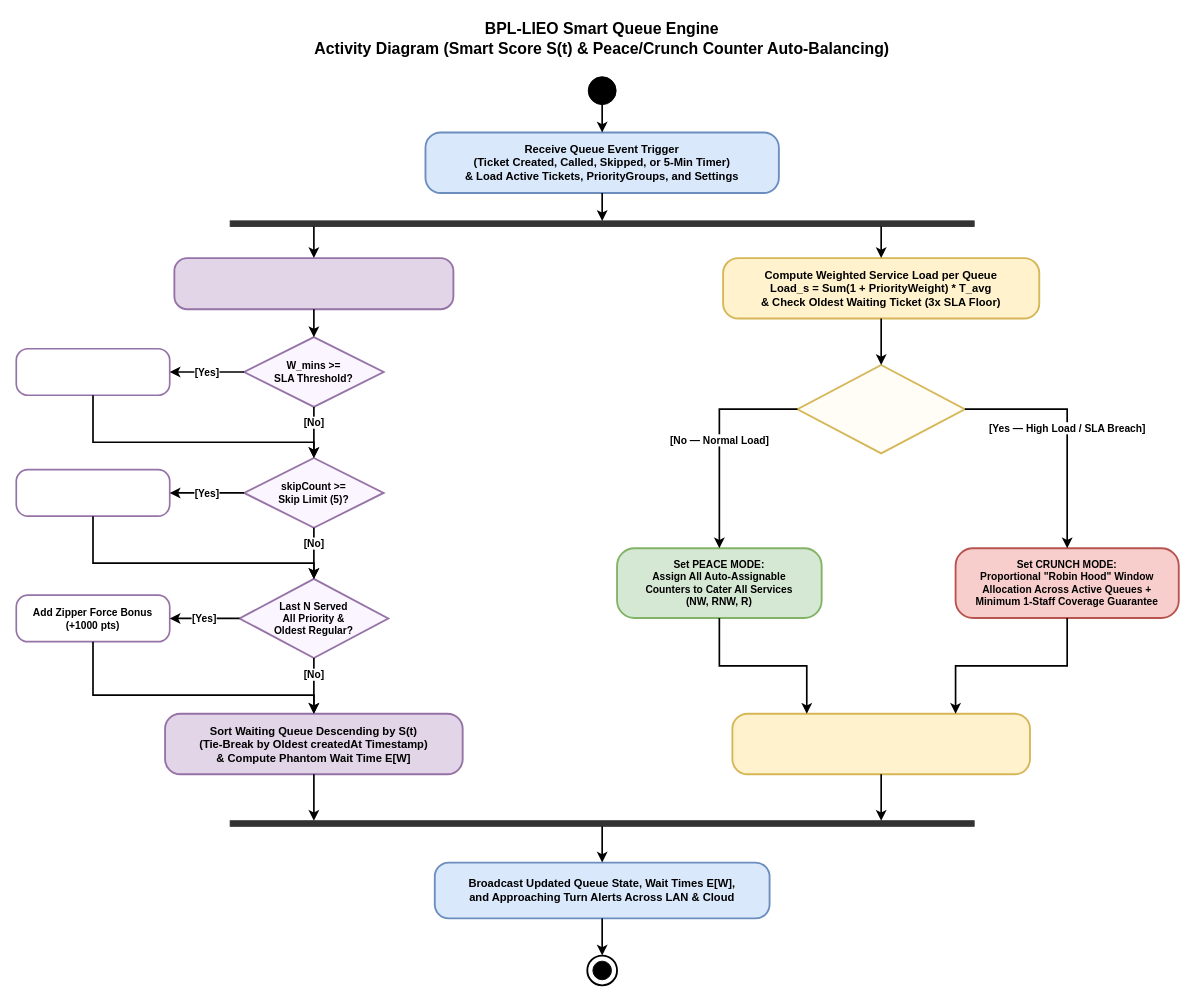
The diagram is 1196 pixels wide and 1002 high, and some of its shapes have lost their labels. The box of each missing label's shape, as (x1, y1, x2, y2) in pixels:
Add SLA Panic Bonus (+100 pts): (15, 347, 170, 396)
Add Stoplight Skip Bonus (+500 pts): (15, 468, 170, 517)
Initialize Score for Ticket t: S(t) = P_base + (W_mins * R_aging): (173, 257, 454, 310)
Max Load >= 1.5x Threshold or 3x SLA Breached?: (796, 364, 965, 454)
Persist Counter Catering Flags in SQLite & Broadcast Socket.io Updates: (731, 712, 1030, 775)
